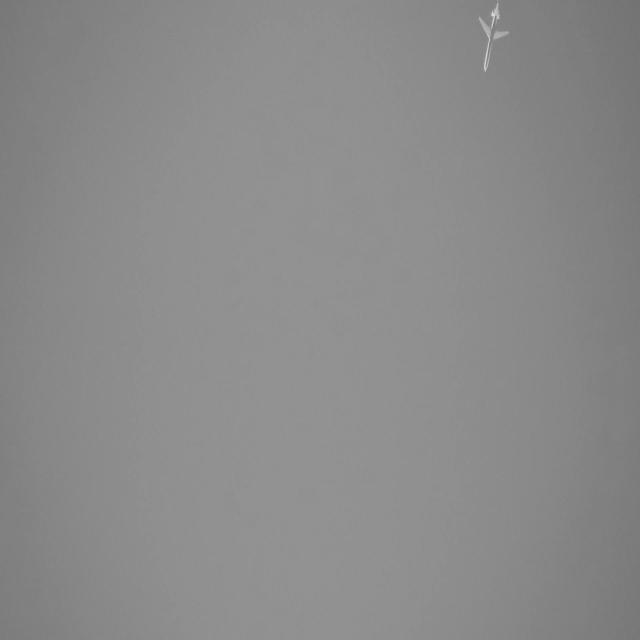aeroplane: (476, 0, 512, 80)
